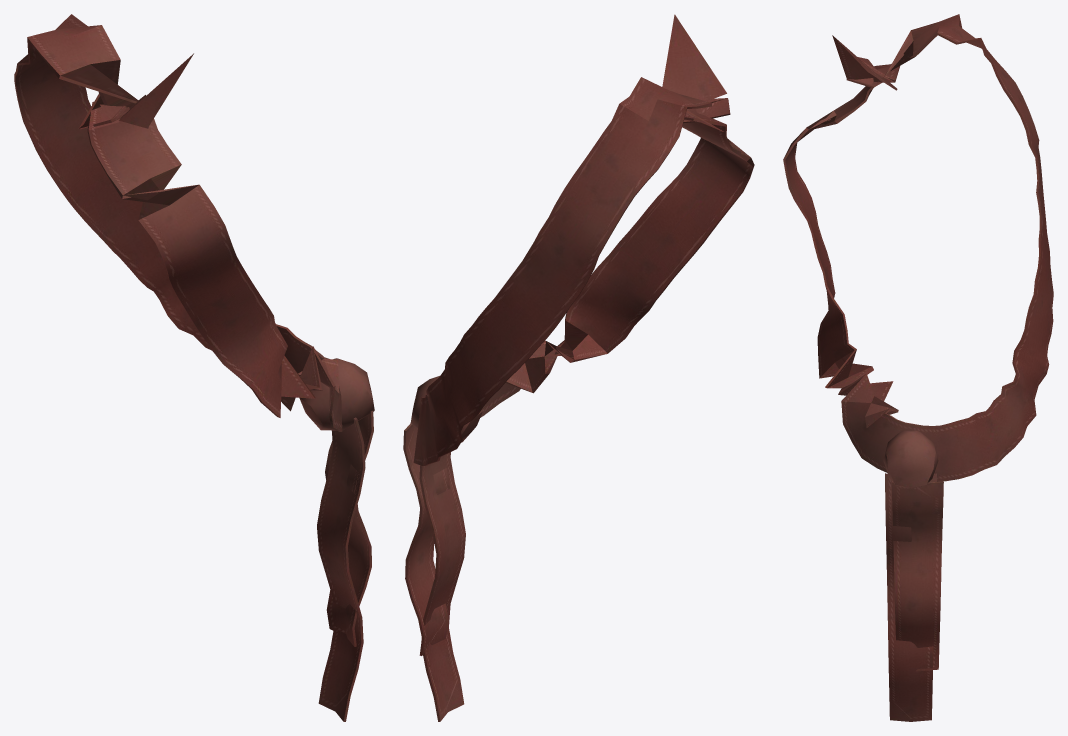
The model's file is armor_sash_display.glb.
The picture shows the model from 3 angles, left to right: view 1: azimuth 30°, elevation 25°; view 2: azimuth 150°, elevation 25°; view 3: azimuth 270°, elevation 25°; orthographic projection. The views are drawn at different scales.
Parts seen in each view (by area): view 1: armor_sash; view 2: armor_sash; view 3: armor_sash.
Boxes of the visible parts, <box> form: armor_sash: <box>14,14,374,721</box>; armor_sash: <box>403,14,754,721</box>; armor_sash: <box>783,14,1053,721</box>.
Size of the model in its own units: 0.4327 by 0.9805 by 0.3941.
1 material, 1 textured.
